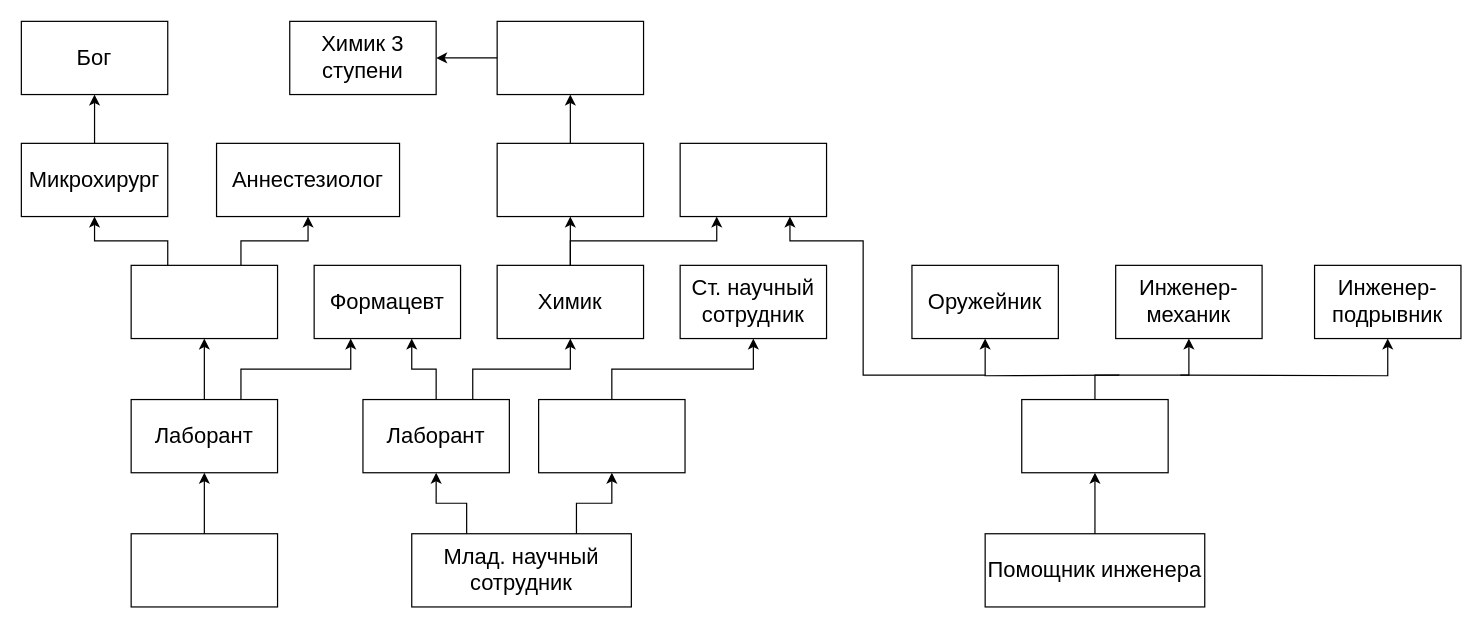
Image size: 1482x628. Some labels were removed from this diagram. Here are the shapes that lost their labels. From the top down, the box of each, then its label:
(496, 20, 644, 95): Химик 2 ступени
(496, 142, 644, 217): Химик 1 ступени
(679, 142, 827, 217): Специалист по воде
(130, 264, 278, 339): Хирург
(537, 398, 685, 473): Научный сотрудник
(1021, 398, 1168, 473): Инженер
(130, 533, 278, 607): Медбрат
